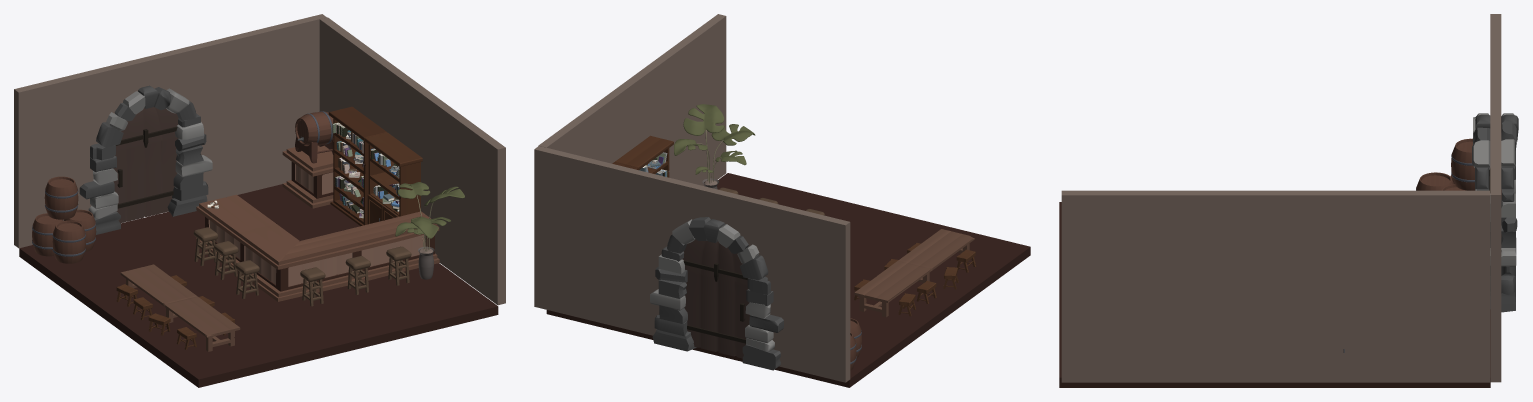
File: Tavern_Bar_Sketchfab.fbx
3 views of the same model, side by side, from view 1: azimuth 30°, elevation 25°; view 2: azimuth 150°, elevation 25°; view 3: azimuth 270°, elevation 25° (orthographic). The views are drawn at different scales.
Visible parts, largest first — view 1: floor:Floor, wall_with_stone_arch_door:polySurface2, Wall1:Wall3, Tavern_Counter_and_Barrel:Counter_Base1, wall_with_stone_arch_door:pCube35, Tavern_Counter_and_Barrel:Counter_Base, Long_Table:Long_Table, Bookshelf_Filled_With_Books2_copy:Bookshelf_1, Bookshelf_Bottom_Cabinet:Bookshelf_3, Tavern_Counter_and_Barrel:Counter_Base2, Barrel3:Barrel, Barrel2:Barrel (+17 smaller); view 2: wall_with_stone_arch_door:polySurface2, floor:Floor, Wall1:Wall3, wall_with_stone_arch_door:pCube35, Long_Table:Long_Table, Bookshelf_Bottom_Cabinet:Bookshelf_3, Potted_Plant1:leaf1, wall_with_stone_arch_door:pCube50, wall_with_stone_arch_door:pCube51, Potted_Plant1:leaf2, wall_with_stone_arch_door:pCube43, wall_with_stone_arch_door:pCube47 (+3 smaller); view 3: Wall1:Wall3, wall_with_stone_arch_door:polySurface2, floor:Floor, Barrel2:Barrel, Barrel3:Barrel, wall_with_stone_arch_door:pCube8, wall_with_stone_arch_door:pCube59.
Part boxes in pixels (left/top/right/bottom): floor:Floor: left=19, top=184, right=498, bottom=387; wall_with_stone_arch_door:polySurface2: left=14, top=14, right=326, bottom=248; Wall1:Wall3: left=319, top=17, right=505, bottom=305; Tavern_Counter_and_Barrel:Counter_Base1: left=196, top=145, right=439, bottom=269; wall_with_stone_arch_door:pCube35: left=113, top=107, right=178, bottom=223; Tavern_Counter_and_Barrel:Counter_Base: left=205, top=162, right=434, bottom=291; Long_Table:Long_Table: left=120, top=264, right=240, bottom=351; Bookshelf_Filled_With_Books2_copy:Bookshelf_1: left=328, top=106, right=386, bottom=226; Bookshelf_Bottom_Cabinet:Bookshelf_3: left=364, top=132, right=422, bottom=216; Tavern_Counter_and_Barrel:Counter_Base2: left=196, top=180, right=439, bottom=301; Barrel3:Barrel: left=52, top=220, right=85, bottom=263; Barrel2:Barrel: left=44, top=176, right=78, bottom=219; wall_with_stone_arch_door:polySurface2: left=534, top=146, right=850, bottom=382; floor:Floor: left=546, top=173, right=1030, bottom=387; Wall1:Wall3: left=538, top=14, right=726, bottom=185; wall_with_stone_arch_door:pCube35: left=682, top=239, right=749, bottom=358; Long_Table:Long_Table: left=854, top=229, right=974, bottom=317; Bookshelf_Bottom_Cabinet:Bookshelf_3: left=615, top=135, right=673, bottom=177; Potted_Plant1:leaf1: left=683, top=104, right=724, bottom=135; wall_with_stone_arch_door:pCube50: left=742, top=344, right=780, bottom=370; wall_with_stone_arch_door:pCube51: left=652, top=329, right=696, bottom=351; Potted_Plant1:leaf2: left=711, top=124, right=755, bottom=145; wall_with_stone_arch_door:pCube43: left=740, top=255, right=768, bottom=280; wall_with_stone_arch_door:pCube47: left=749, top=314, right=783, bottom=332; Wall1:Wall3: left=1061, top=190, right=1489, bottom=382; wall_with_stone_arch_door:polySurface2: left=1490, top=14, right=1501, bottom=382; floor:Floor: left=1059, top=202, right=1490, bottom=387; Barrel2:Barrel: left=1451, top=138, right=1475, bottom=190; Barrel3:Barrel: left=1416, top=172, right=1453, bottom=190; wall_with_stone_arch_door:pCube8: left=1472, top=140, right=1490, bottom=169; wall_with_stone_arch_door:pCube59: left=1501, top=139, right=1515, bottom=168.
Size of the model in its own units: 27.82 by 13.93 by 29.35.
Materials: 33 (33 with a texture image).
